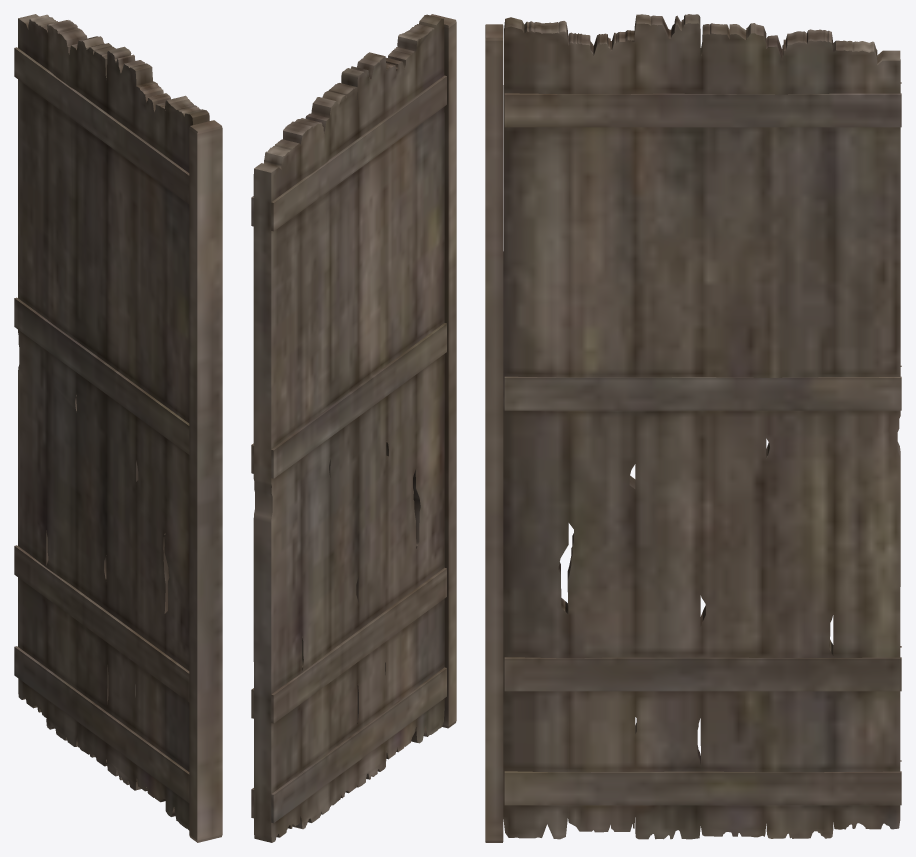
The model's file is SM_Gate_DoorLeft_Wood_846c0e.glb.
The picture shows the model from 3 angles, left to right: view 1: azimuth 30°, elevation 25°; view 2: azimuth 150°, elevation 25°; view 3: azimuth 270°, elevation 25°; orthographic projection. The views are drawn at different scales.
Size of the model in its own units: 0.2376 by 6.5 by 3.
Materials: 1 (1 with a texture image).
